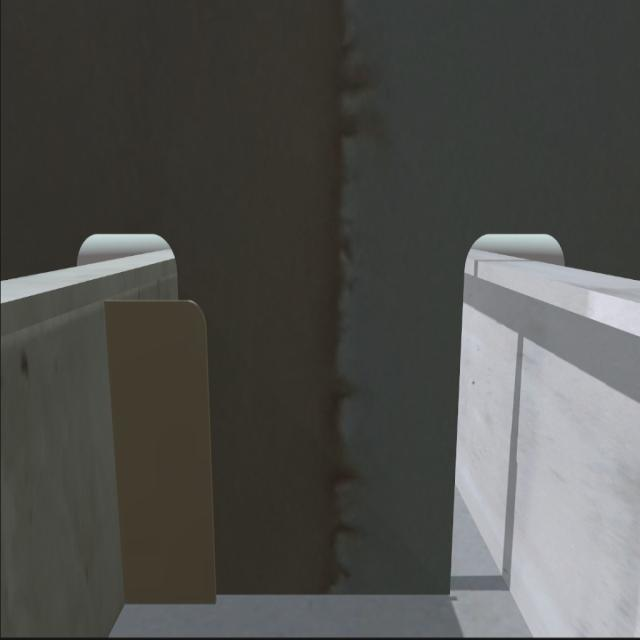fillet_yong_jeop_jang: (125, 580, 454, 610)
longi_yong_jeop_jang: (99, 297, 132, 608)
plate_CP05: (109, 297, 217, 603)
